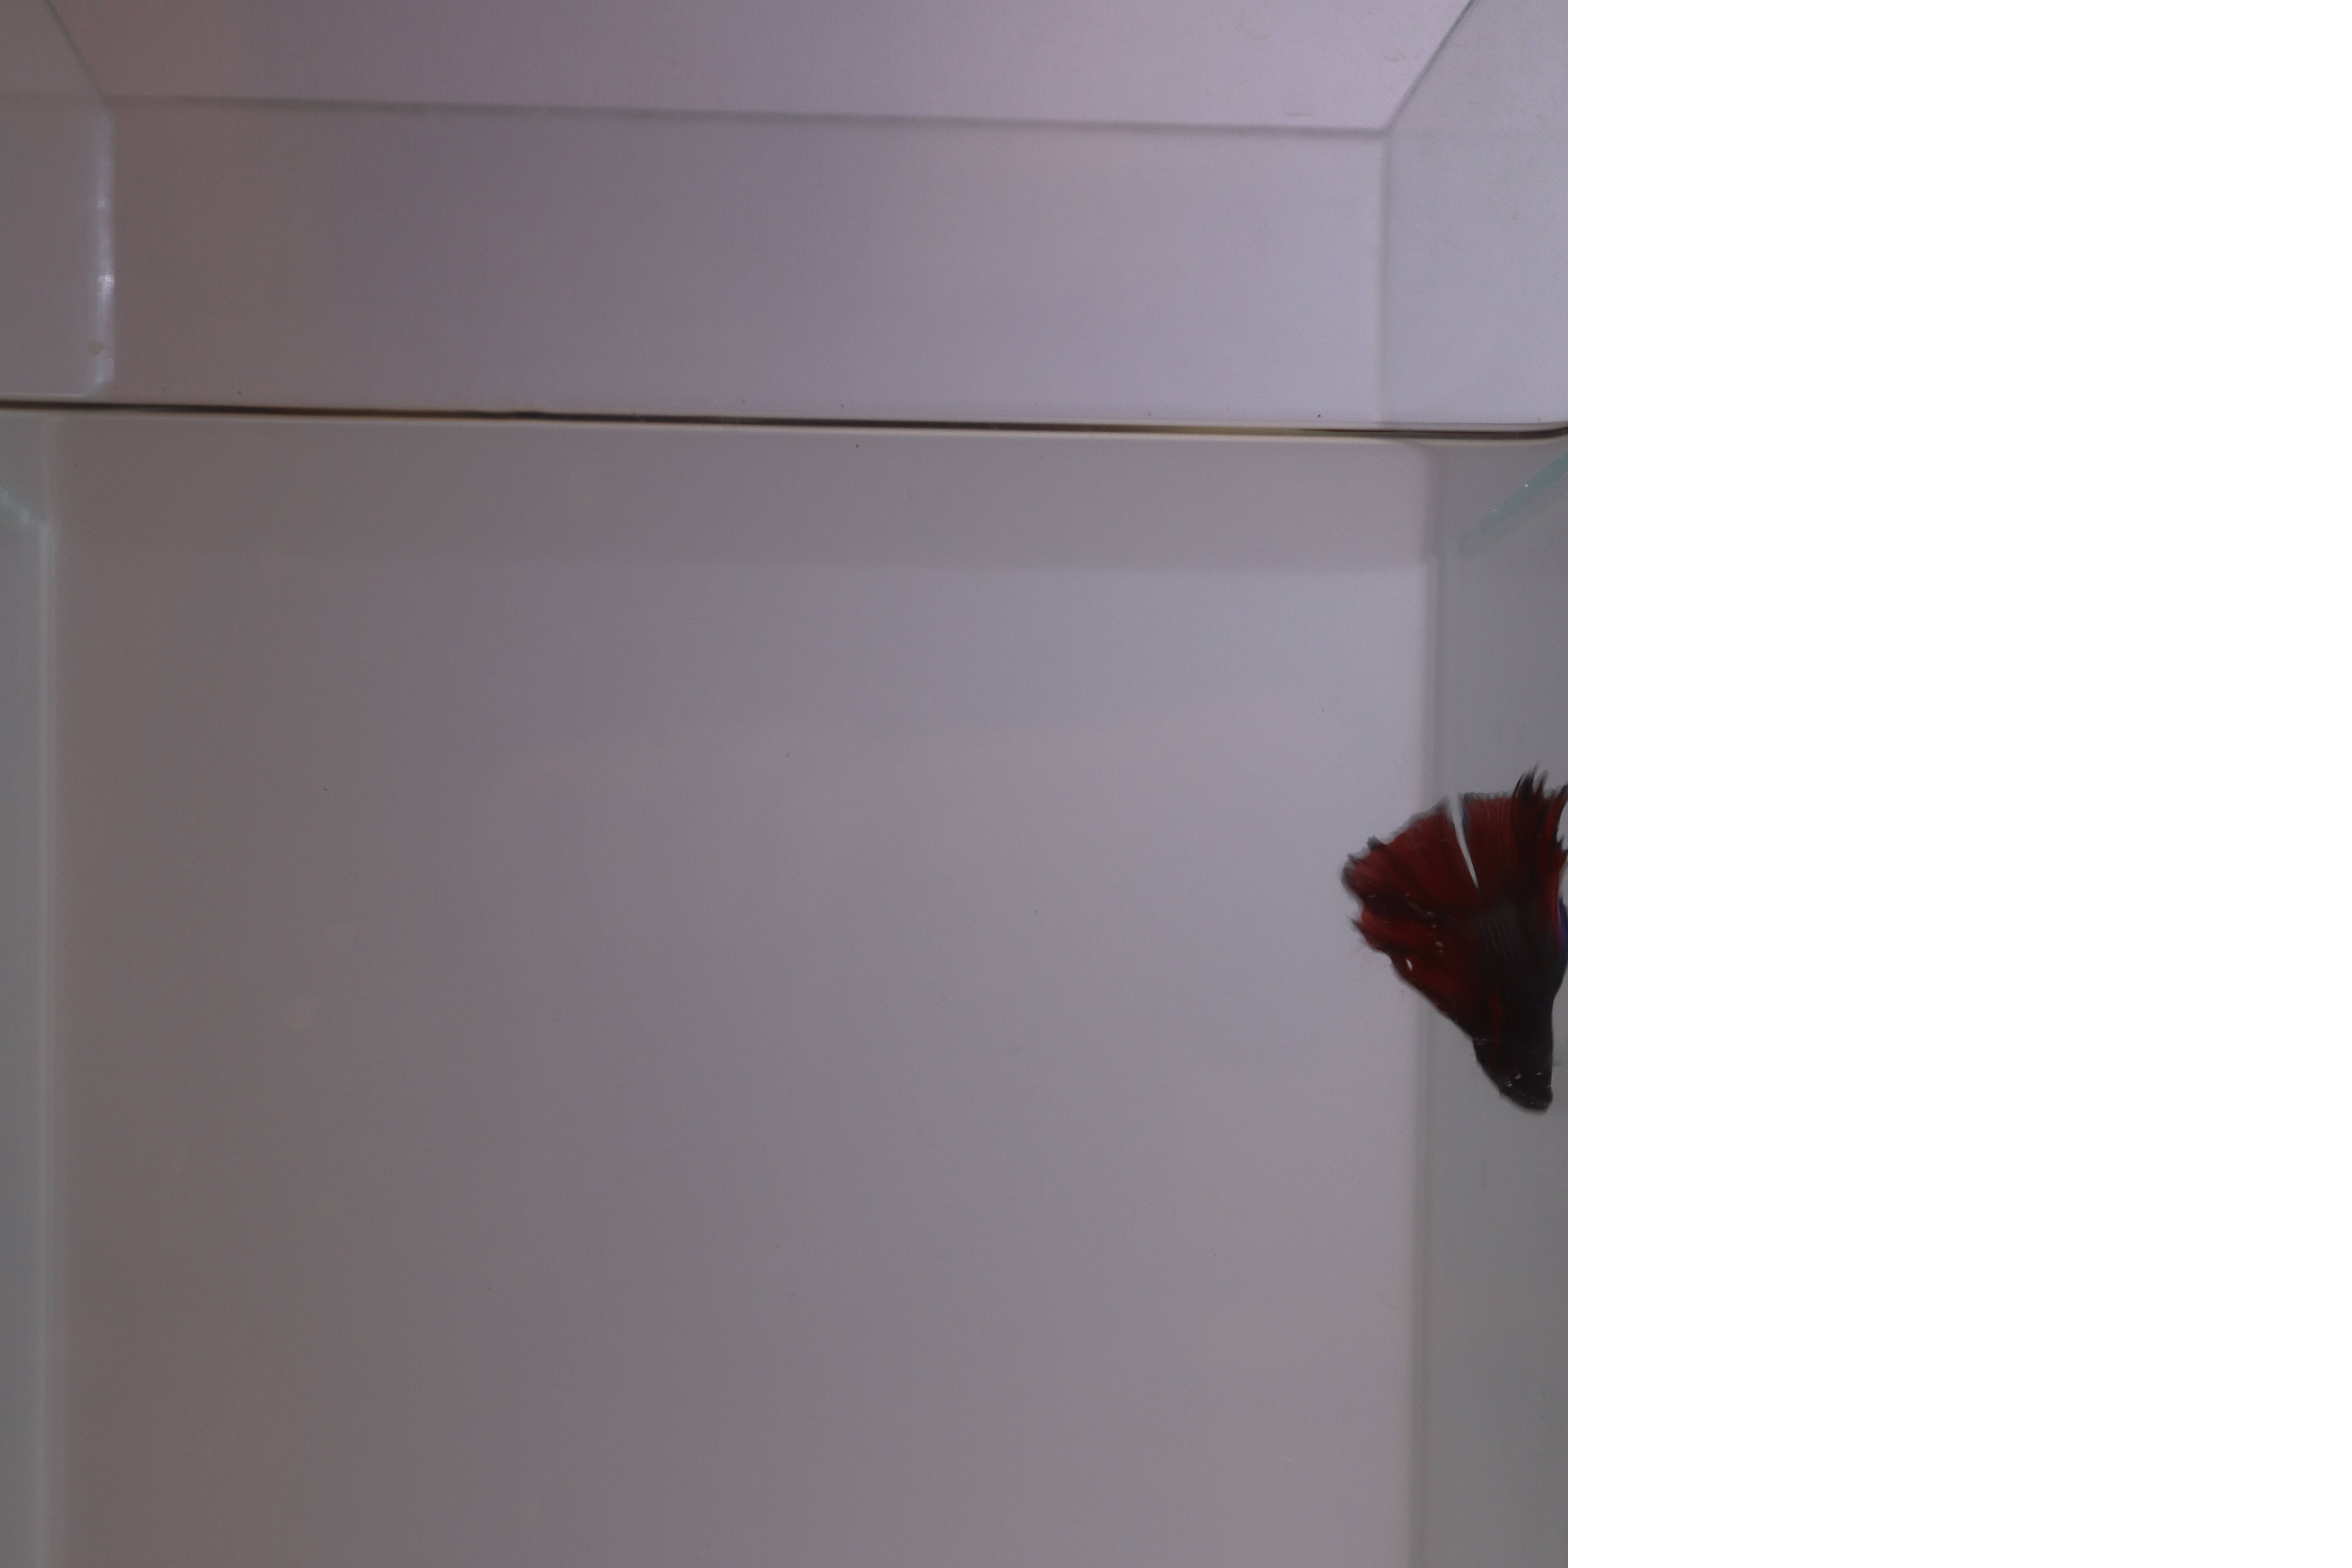fish: (1325, 763, 1565, 1116)
